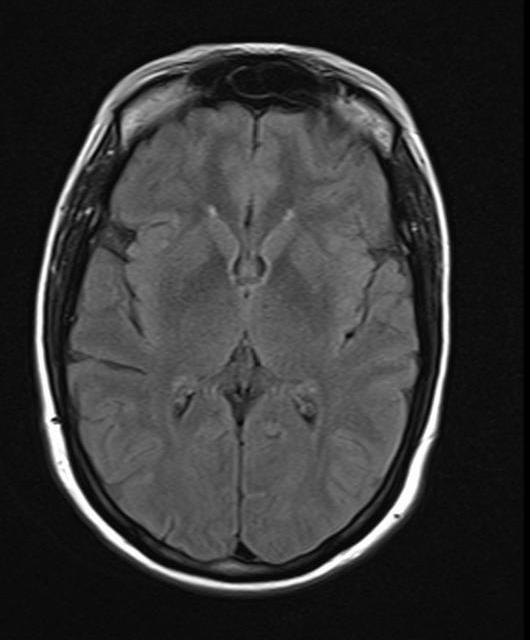Normal_Brain: (1, 1, 478, 640)
